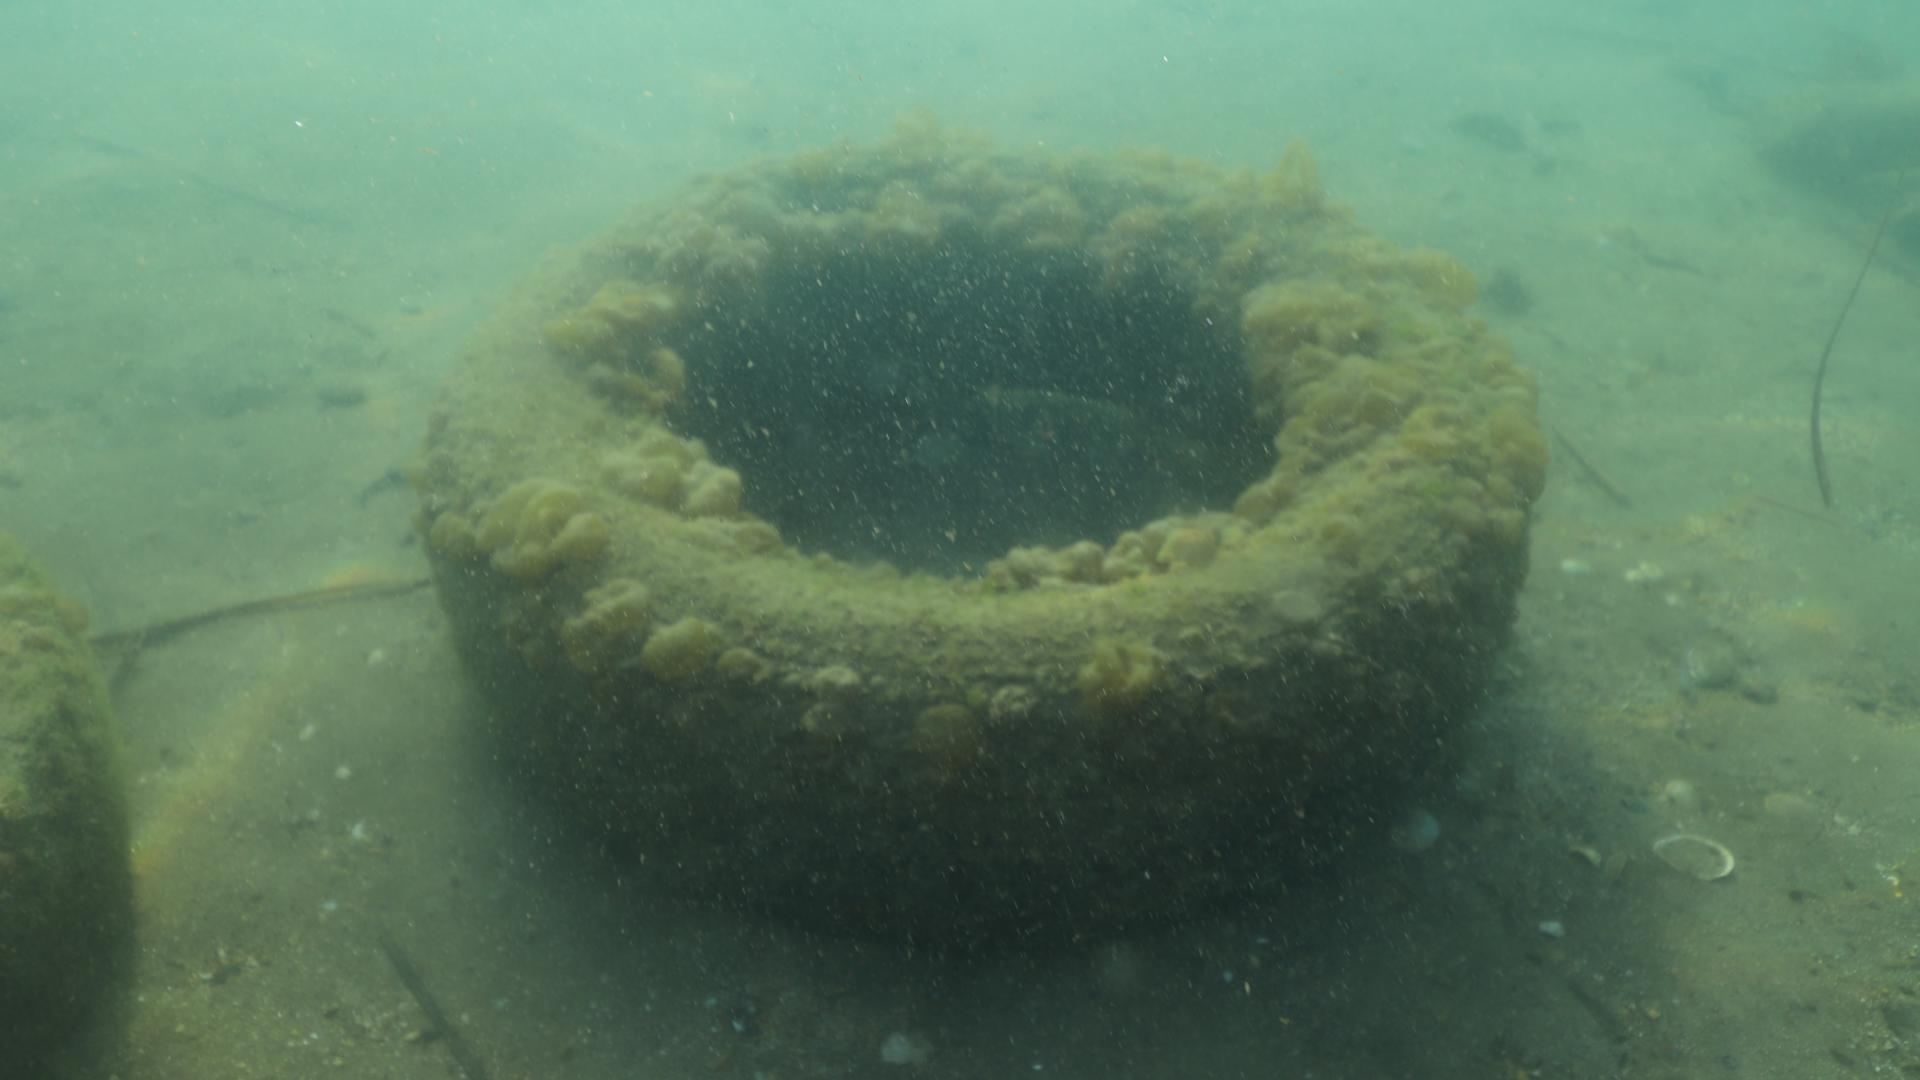tire: (433, 135, 1536, 952)
